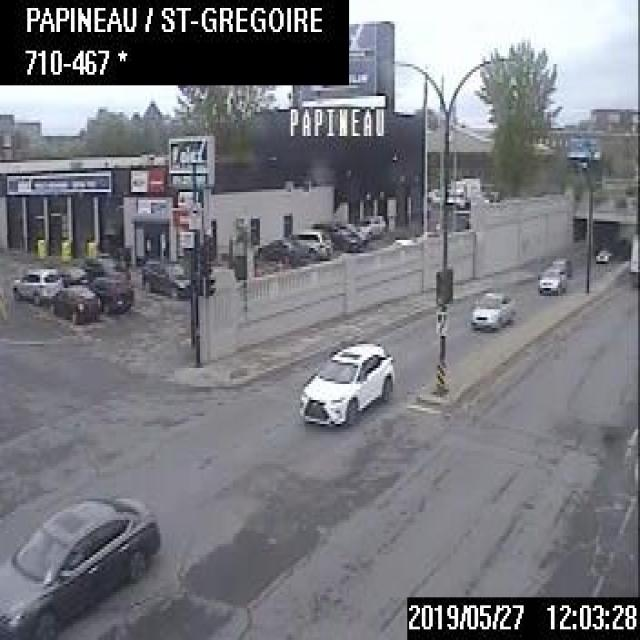vehicle: (0, 488, 158, 637), (298, 339, 396, 424), (138, 255, 188, 298), (11, 265, 62, 307), (52, 282, 100, 326), (309, 216, 363, 252), (88, 274, 130, 316), (469, 288, 516, 325), (257, 234, 300, 267), (291, 228, 330, 259), (536, 256, 569, 291), (84, 252, 128, 278), (355, 213, 385, 241), (626, 229, 638, 288), (58, 264, 88, 284), (594, 246, 611, 262)
